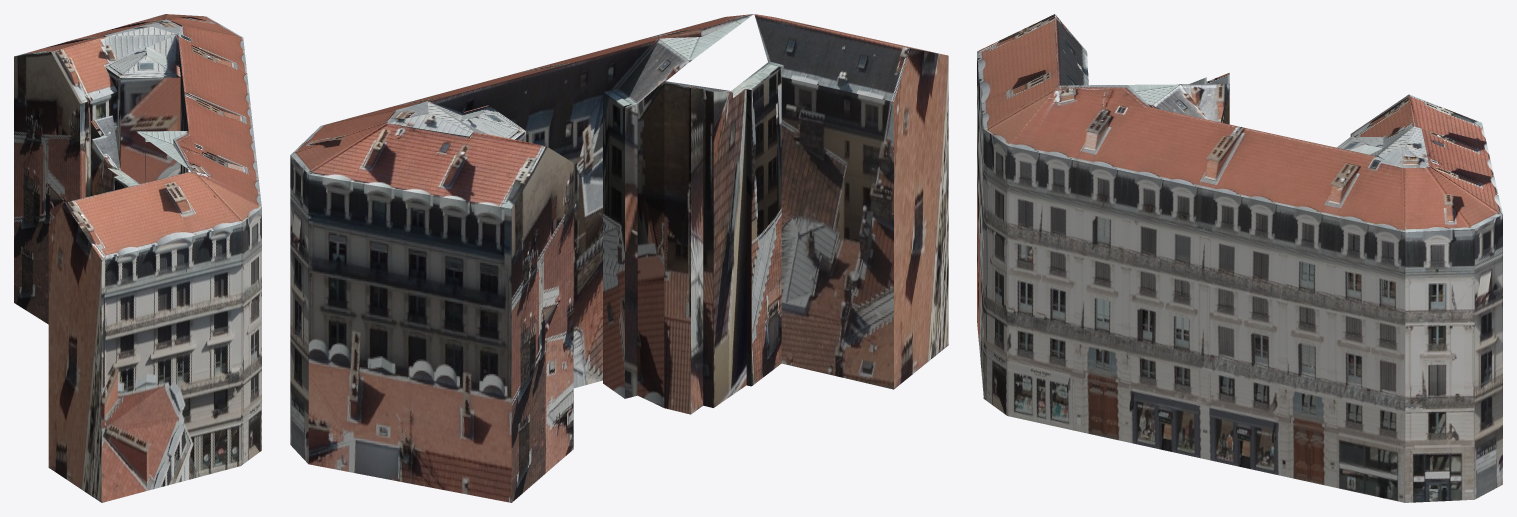
3 renders of one model, left to right at view 1: azimuth 30°, elevation 25°; view 2: azimuth 150°, elevation 25°; view 3: azimuth 270°, elevation 25°, orthographic. The views are drawn at different scales.
Parts seen in each view (by area): view 1: Z_UP; view 2: Z_UP; view 3: Z_UP.
Part boxes in pixels (bbox=[...]): Z_UP: bbox=[14, 14, 261, 502]; Z_UP: bbox=[290, 14, 948, 502]; Z_UP: bbox=[977, 14, 1502, 502].
Size of the model in its own units: 33.76 by 26.82 by 40.93.
2 materials, 1 textured.
